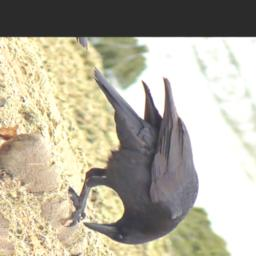Crow: (0, 55, 236, 256)
